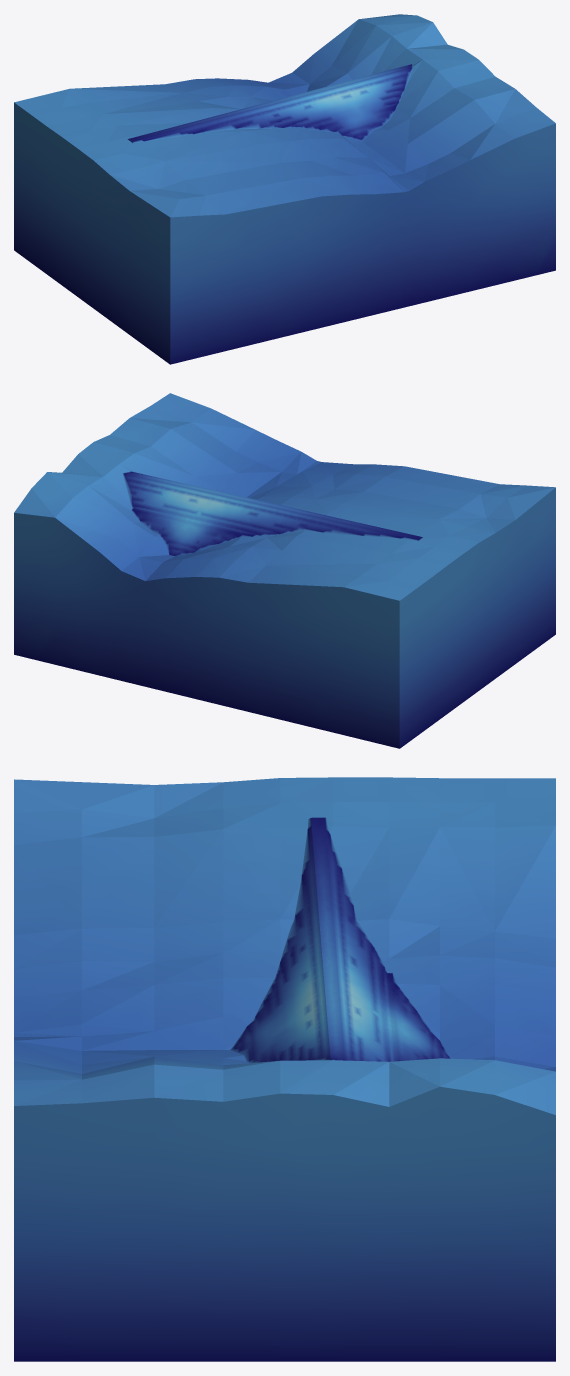
The model's file is numericalmodelanim2.glb.
3 views of the same model, one above another, from view 1: azimuth 30°, elevation 25°; view 2: azimuth 150°, elevation 25°; view 3: azimuth 270°, elevation 25° (orthographic). The views are drawn at different scales.
Parts seen in each view (by area): view 1: undeformed_col_aster; view 2: undeformed_col_aster; view 3: undeformed_col_aster.
Boxes of the visible parts, x1,y1,x2,y2 form: undeformed_col_aster: (14,14,555,364); undeformed_col_aster: (14,393,555,748); undeformed_col_aster: (14,777,555,1361).
Bounding box in the file's own units: 380 × 149 × 266.
